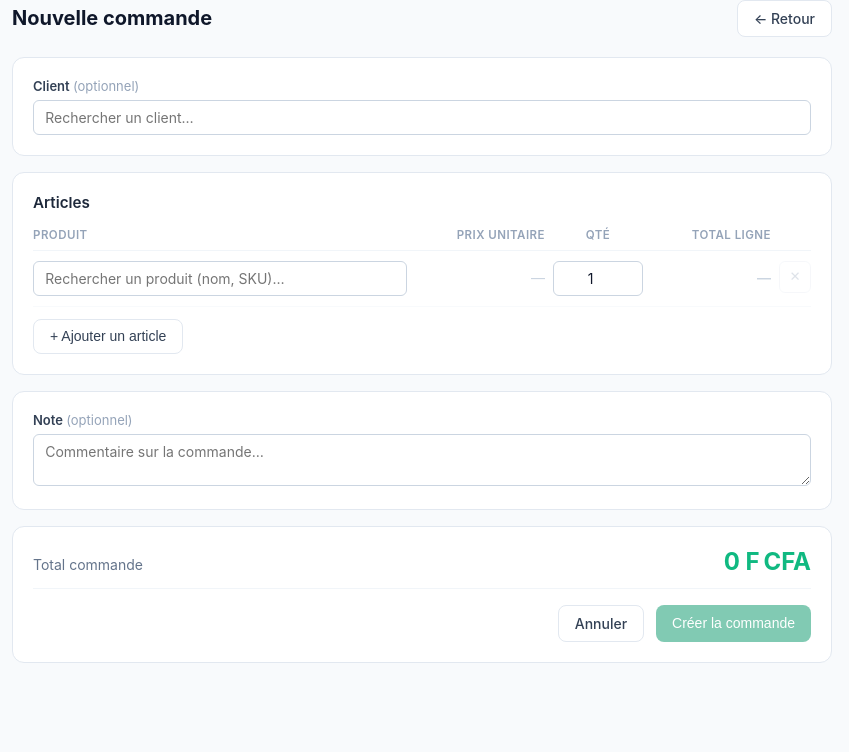
Test: OrderCreateView › requires a variant for a variable product before submit
The width and height of the screenshot is (849, 752).
Focus the field with placeholder "Rechercher un produit (nom, SKU)…" at (220, 278), box 33,261 -> 407,296
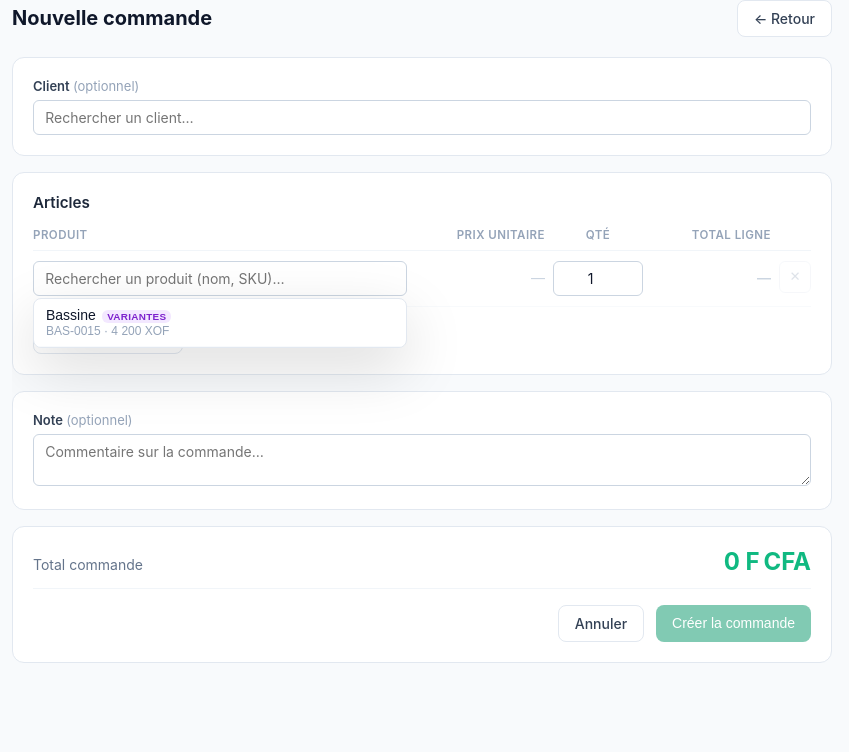
Click the button that starts with "Bassine" at (71, 315), box 34,299 -> 406,347
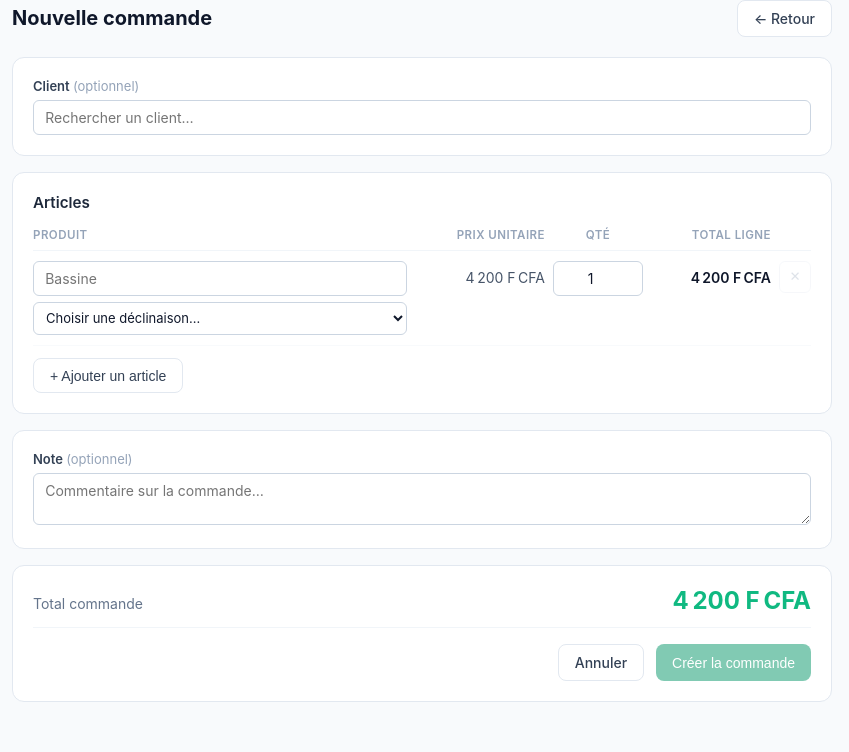
Expected: the dropdown is shown, 33,302 -> 407,335
Note: Submitting without choosing a variant is blocked with an error
Submit the form
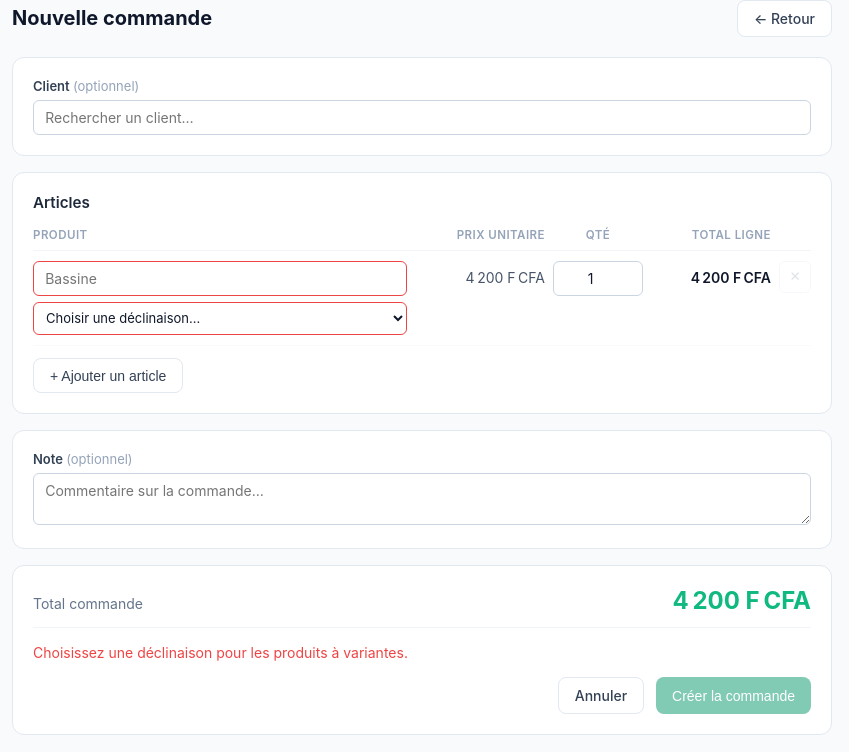
Expected: the text "déclinaison" is shown, 33,644 -> 408,661
